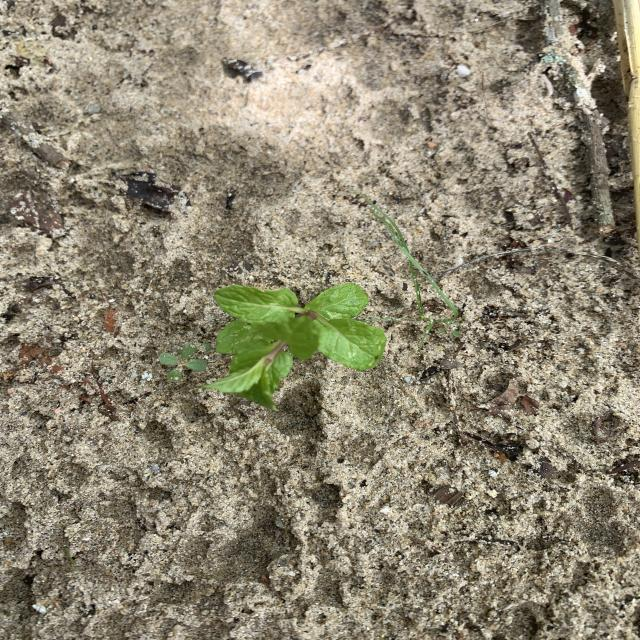crop: (204, 283, 386, 408)
weed: (355, 191, 458, 347), (158, 343, 211, 382), (438, 321, 461, 337)
